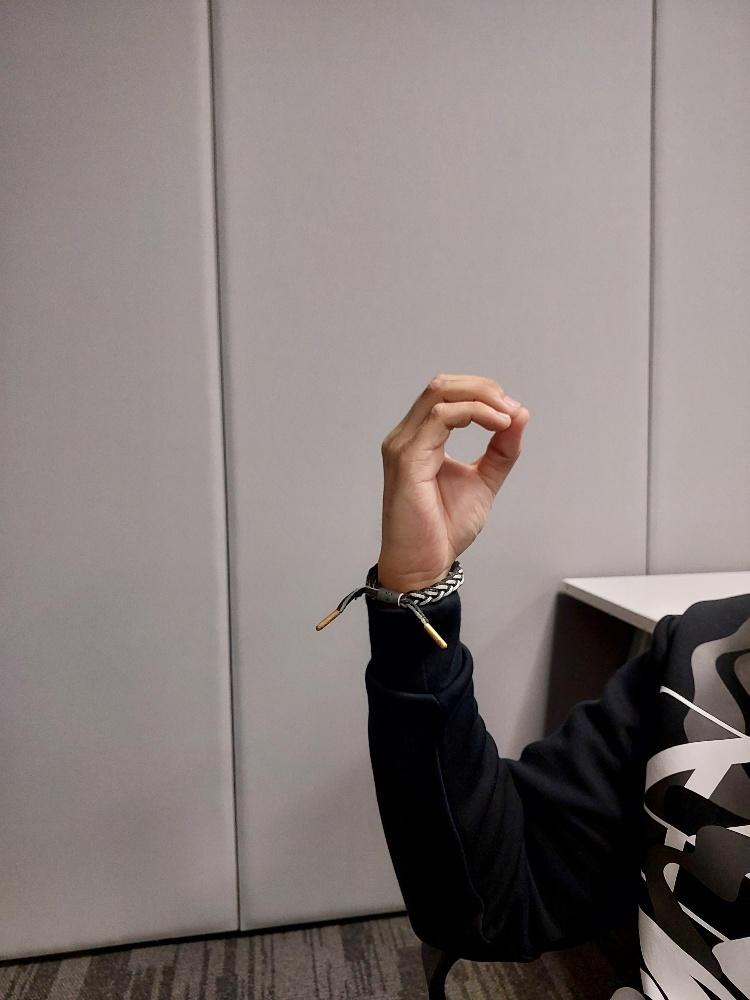o: (376, 370, 531, 586)
